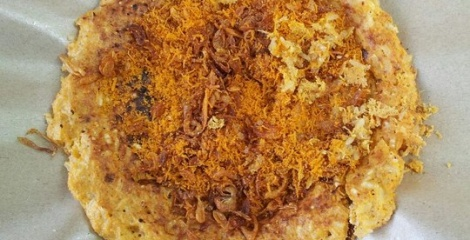kerak_telor: (46, 1, 428, 240)
